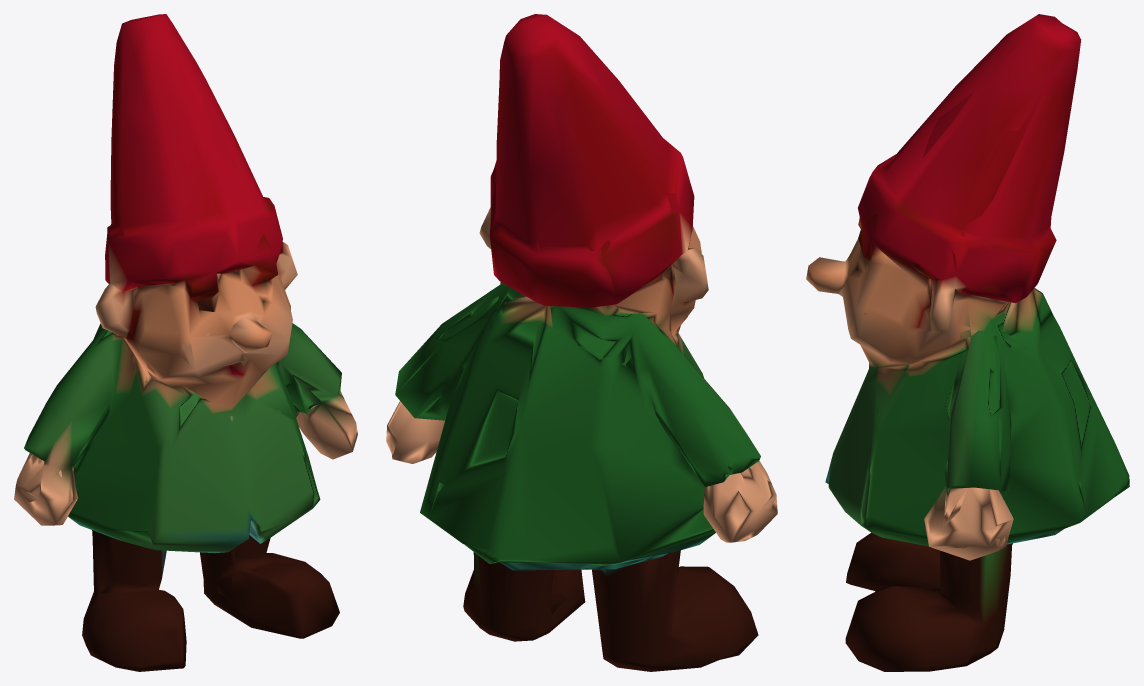
Rendered from gen3d-garden-gnome-lod0.glb.
3 renders of one model, left to right at view 1: azimuth 30°, elevation 25°; view 2: azimuth 150°, elevation 25°; view 3: azimuth 270°, elevation 25°, orthographic. The views are drawn at different scales.
Visible parts, largest first — view 1: part_0; view 2: part_0; view 3: part_0.
Boxes of the visible parts, box(x1,y1,x2,y2) form: part_0: box(14, 14, 357, 671); part_0: box(386, 14, 777, 671); part_0: box(806, 14, 1129, 671).
Bounding box in the file's own units: 0.5986 × 1 × 0.4923.
